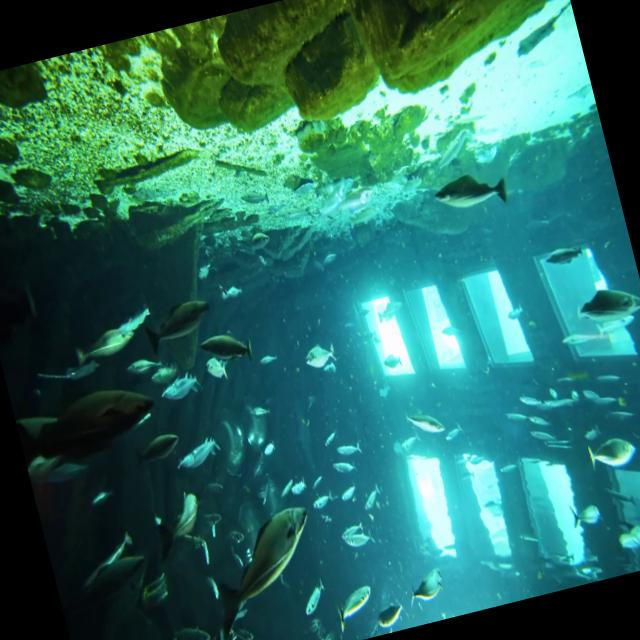fish: (198, 506, 330, 632), (13, 378, 166, 482), (139, 289, 214, 348), (435, 164, 514, 218), (202, 316, 256, 373)
